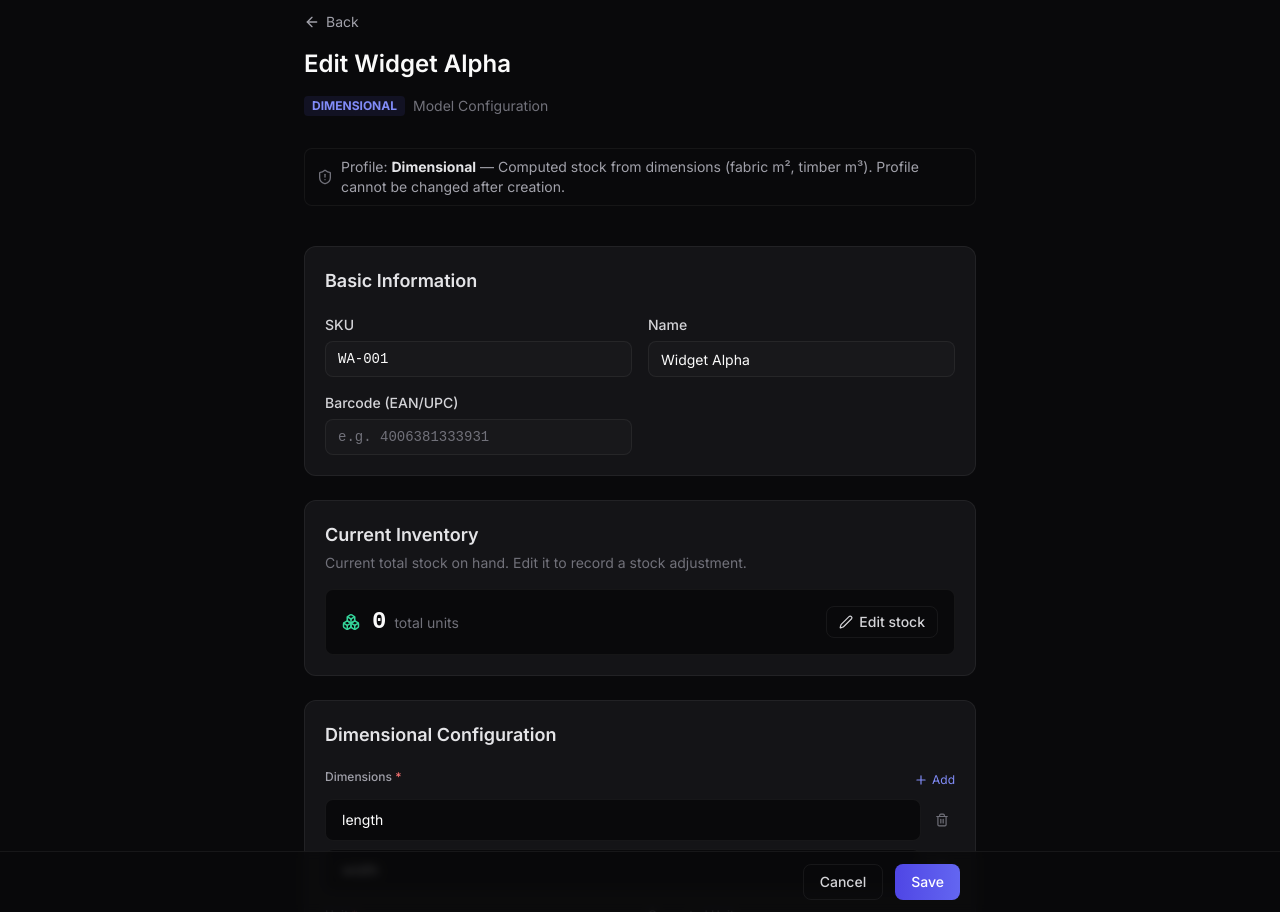
Test case: ProductModelEdit – DIMENSIONAL profile config › removes a dimension when its trash button is clicked
This screenshot has width=1280, height=912.
Expected: the number of fields with placeholder "e.g. length, width, height" is 2, [325,799,921,841]; [325,849,921,891]
Click the 4th button at (942, 820), box [929,807,955,833]
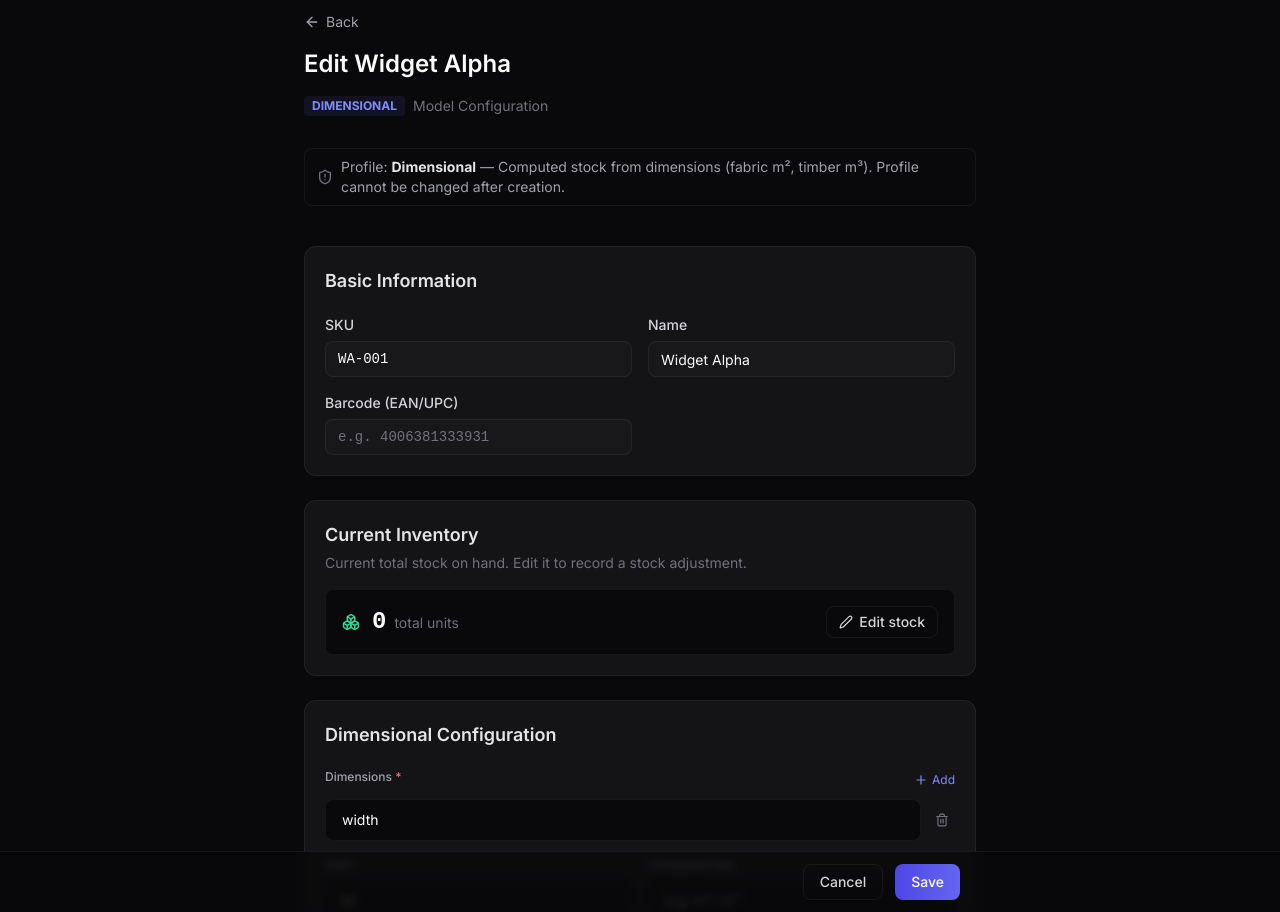
Expected: the field showing "length" is not shown
Now the number of fields with placeholder "e.g. length, width, height" is 1, box [325,799,921,841]
